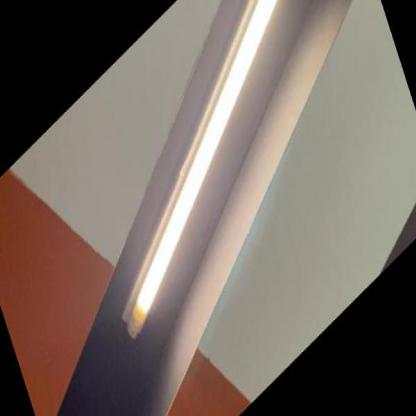light_on: (46, 0, 369, 381)
